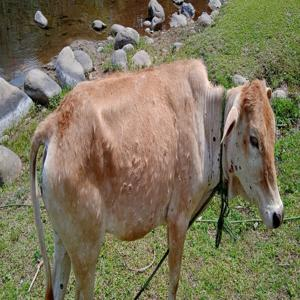lumpy skin diesease: (28, 57, 284, 299)
